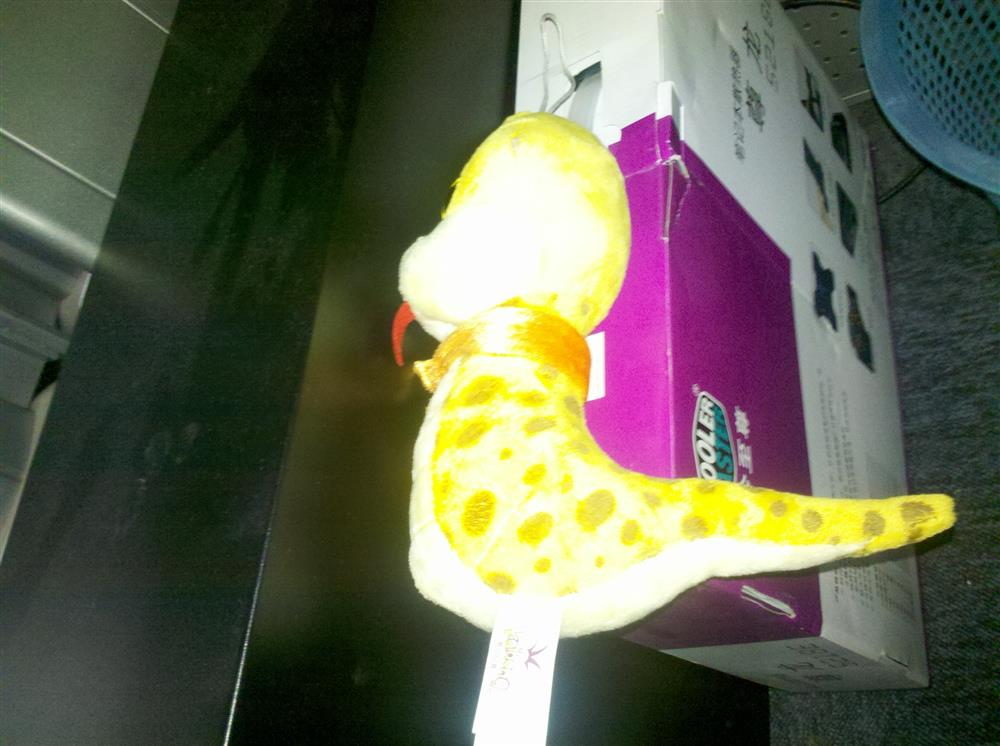toy_snake: (396, 110, 954, 645)
